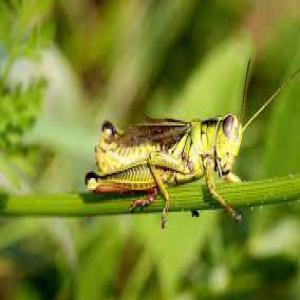locust: (66, 98, 268, 206)
